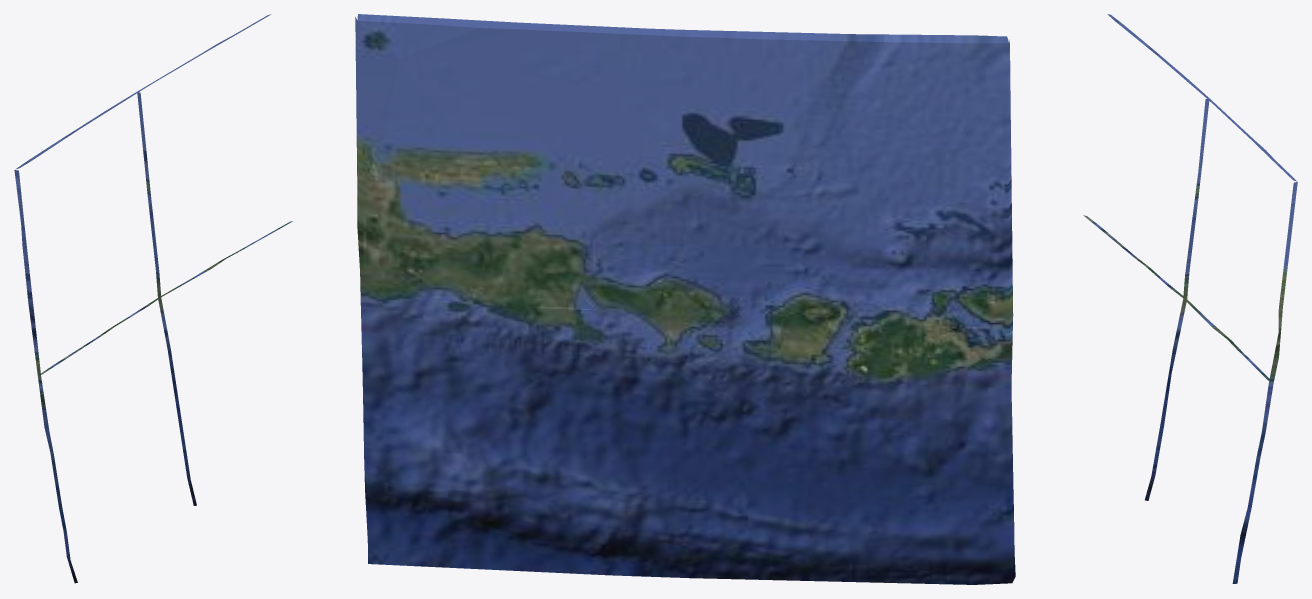
3 views of the same model, side by side, from view 1: azimuth 30°, elevation 25°; view 2: azimuth 150°, elevation 25°; view 3: azimuth 270°, elevation 25° (orthographic). The views are drawn at different scales.
Size of the model in its own units: 606880 by 622599 by 362912.
1 material, 1 textured.
